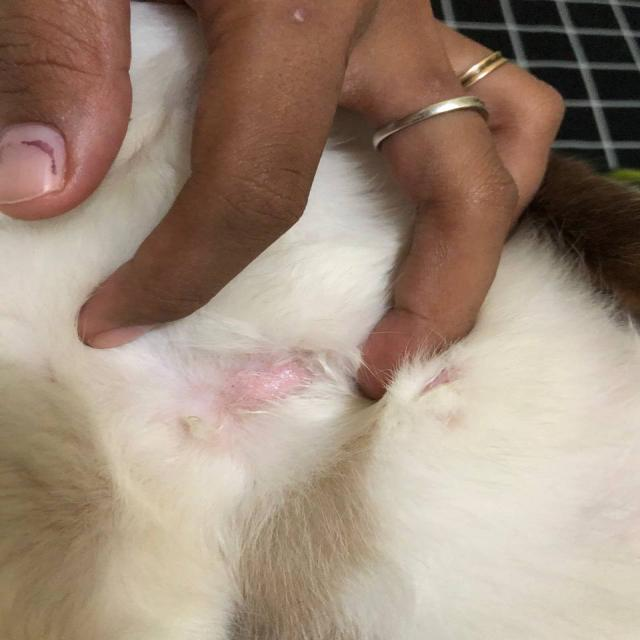da khoe manh: (456, 515, 635, 640)
hac lao: (172, 322, 338, 452)
